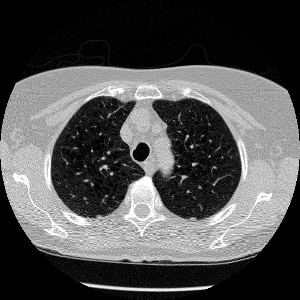nodule: (190, 216, 194, 220)
